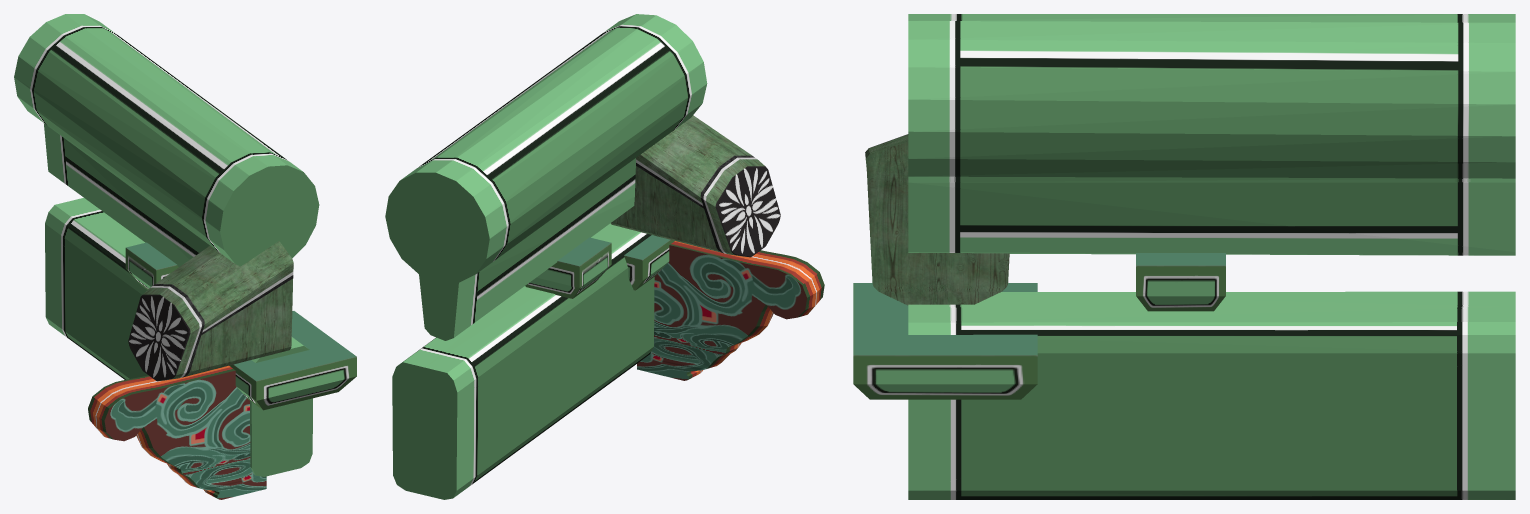
Rendered from SM_R_Dancheong_11.fbx.
The picture shows the model from 3 angles, left to right: view 1: azimuth 30°, elevation 25°; view 2: azimuth 150°, elevation 25°; view 3: azimuth 270°, elevation 25°; orthographic projection. The views are drawn at different scales.
Visible parts, largest first — view 1: SM_R_Dancheong_11; view 2: SM_R_Dancheong_11; view 3: SM_R_Dancheong_11.
Boxes of the visible parts, x1,y1,x2,y2 form: SM_R_Dancheong_11: [14, 14, 356, 499]; SM_R_Dancheong_11: [385, 14, 824, 499]; SM_R_Dancheong_11: [853, 14, 1515, 499].
Size of the model in its own units: 70.2 by 118 by 93.56.
5 materials, 5 textured.
